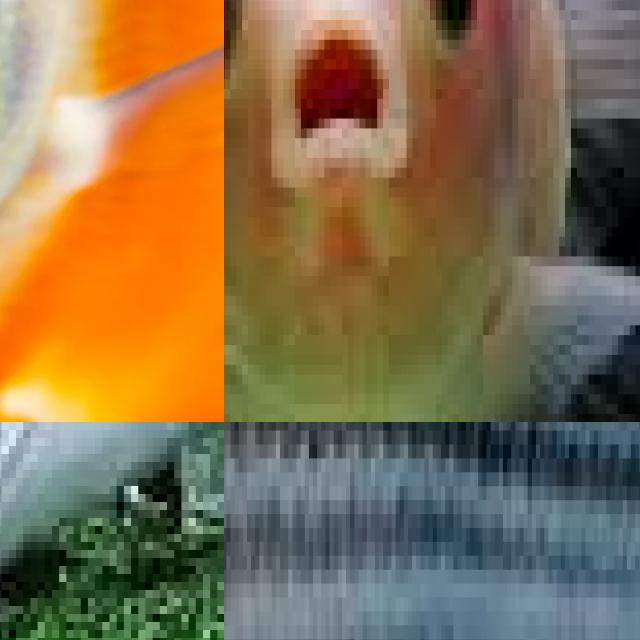fish: (224, 0, 640, 422), (0, 0, 224, 422), (224, 422, 640, 640), (0, 422, 224, 640)
